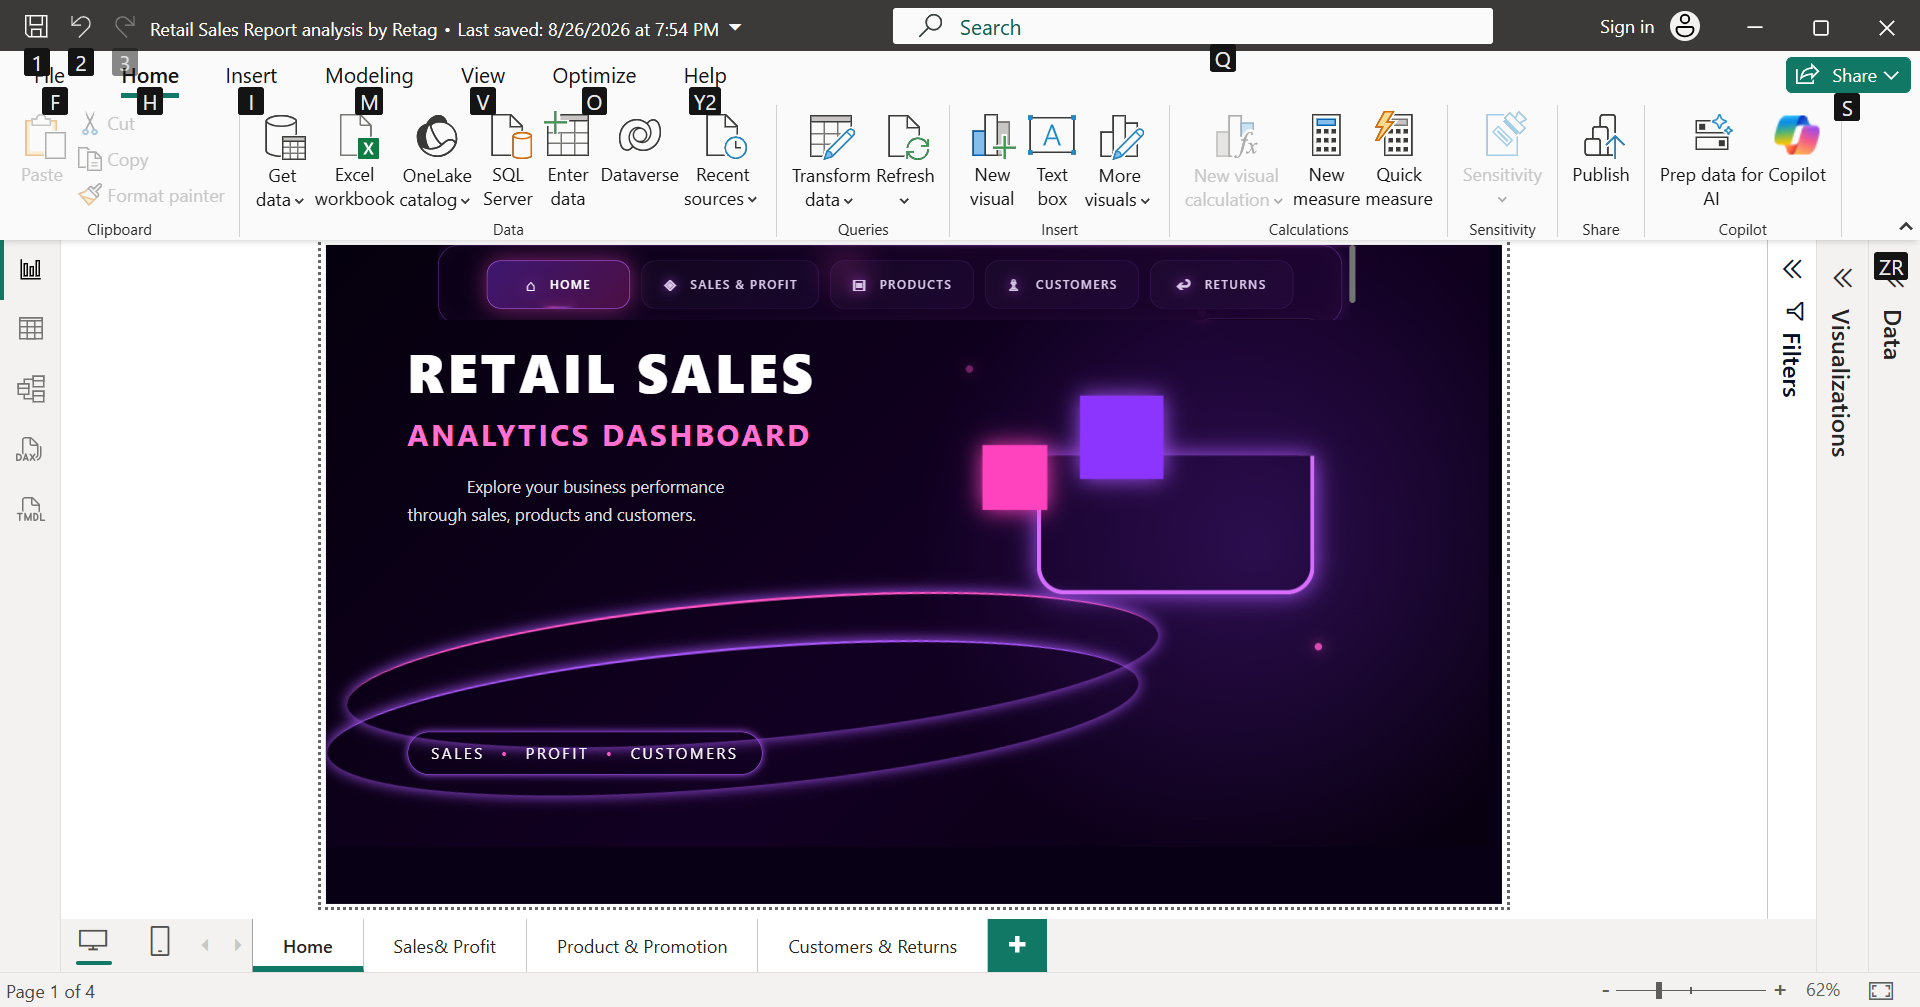

The dashboard page shown, as its layout file describes it:
{"tool":"powerbi","page":{"name":"Home","canvas":[1280,720],"ordinal":0},"visuals":[{"type":"textStylerD577C9FF21FB4883A1CE1335C340B54F","fields":{"measure":["supplier.Animated Dashboard"]},"box":[0,0,1279.7,720.3],"z":0},{"type":"textStylerD577C9FF21FB4883A1CE1335C340B54F","fields":{"measure":["supplier.Page Navigator"]},"box":[122,0,1000,89.8],"z":1000},{"type":"actionButton","box":[910.9,24.6,138,49.1],"z":4000},{"type":"pageNavigator","box":[170,22.7,730.3,50.2],"z":4001}]}

Visuals, with their boxes on the page's 1280x720 design canvas (x1, y1, x2, y2). These are canvas units, not pixel positions in the 1920x1007 screenshot, which may show the page scaled, cropped or inside an application window:
textStylerD577C9FF21FB4883A1CE1335C340B54F - supplier.Animated Dashboard: [x1=0, y1=0, x2=1280, y2=720]
textStylerD577C9FF21FB4883A1CE1335C340B54F - supplier.Page Navigator: [x1=122, y1=0, x2=1122, y2=90]
actionButton: [x1=911, y1=25, x2=1049, y2=74]
pageNavigator: [x1=170, y1=23, x2=900, y2=73]
